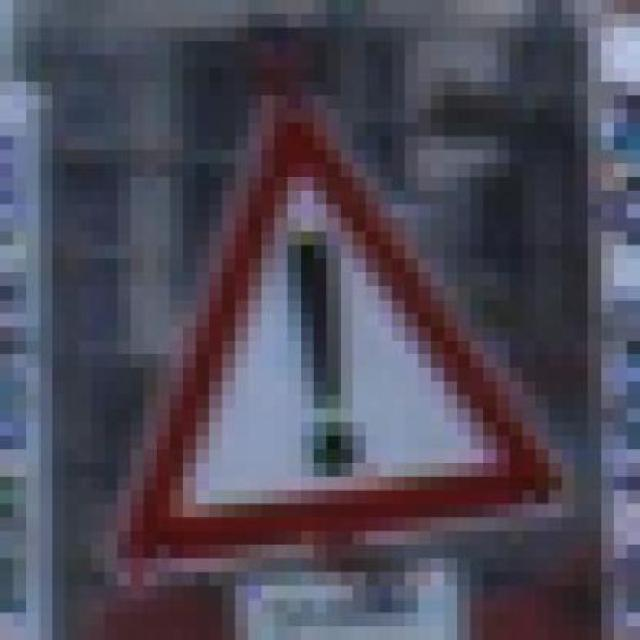Attention Please-: (90, 82, 562, 572)
